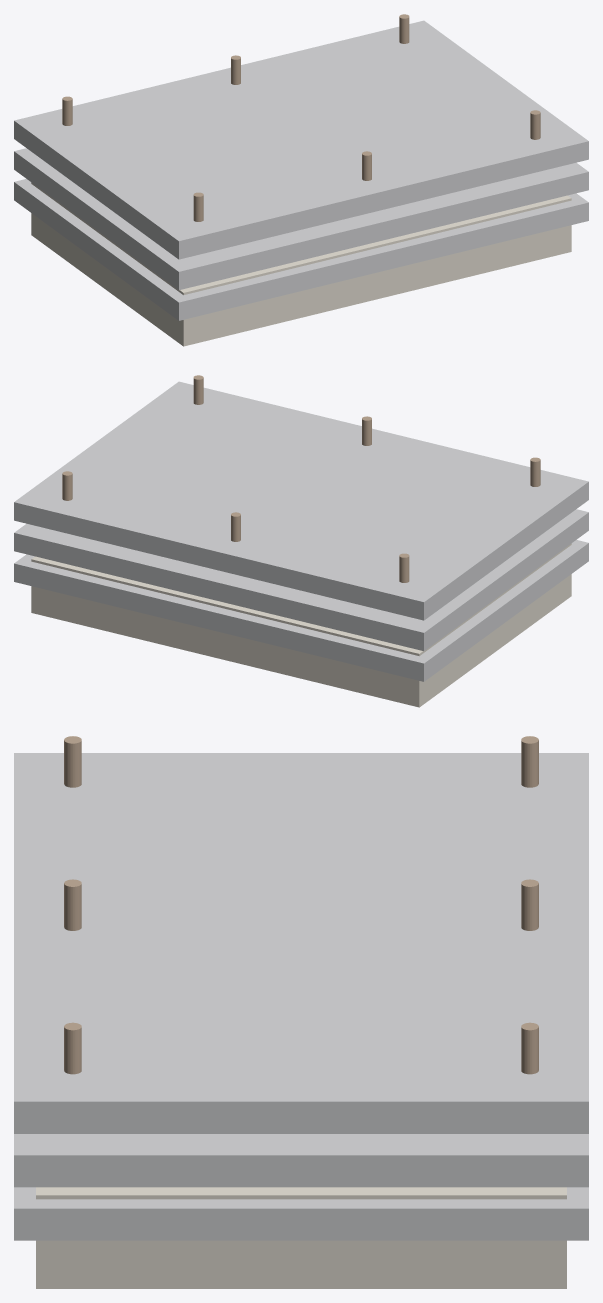
The model's file is MOD_FOUNDATION_RAISED_COASTAL_001_LOD_MAP.glb.
3 views of the same model, one above another, from view 1: azimuth 30°, elevation 25°; view 2: azimuth 150°, elevation 25°; view 3: azimuth 270°, elevation 25° (orthographic). The views are drawn at different scales.
Parts seen in each view (by area): view 1: MOD_FOUNDATION_RAISED_COASTAL_001_COASTAL_STILT_FOUNDATION_M, MOD_FOUNDATION_RAISED_COASTAL_001_MEDIUM_RAISED_COASTAL_MAP_, MOD_FOUNDATION_RAISED_COASTAL_001_LOW_RAISED_COASTAL_MAP_SKI, MOD_FOUNDATION_RAISED_COASTAL_001_LOW_RAISED_COASTAL_MAP_PLA; view 2: MOD_FOUNDATION_RAISED_COASTAL_001_COASTAL_STILT_FOUNDATION_M, MOD_FOUNDATION_RAISED_COASTAL_001_MEDIUM_RAISED_COASTAL_MAP_, MOD_FOUNDATION_RAISED_COASTAL_001_LOW_RAISED_COASTAL_MAP_SKI, MOD_FOUNDATION_RAISED_COASTAL_001_LOW_RAISED_COASTAL_MAP_PLA; view 3: MOD_FOUNDATION_RAISED_COASTAL_001_COASTAL_STILT_FOUNDATION_M (×3), MOD_FOUNDATION_RAISED_COASTAL_001_LOW_RAISED_COASTAL_MAP_SKI, MOD_FOUNDATION_RAISED_COASTAL_001_MEDIUM_RAISED_COASTAL_MAP_, MOD_FOUNDATION_RAISED_COASTAL_001_LOW_RAISED_COASTAL_MAP_PLA, MOD_FOUNDATION_RAISED_COASTAL_001_COASTAL_STILT_FOUNDATION_. (×4).
Boxes of the visible parts, left/top/right/bottom form: MOD_FOUNDATION_RAISED_COASTAL_001_COASTAL_STILT_FOUNDATION_M: left=14, top=20, right=588, bottom=259; MOD_FOUNDATION_RAISED_COASTAL_001_MEDIUM_RAISED_COASTAL_MAP_: left=14, top=148, right=588, bottom=290; MOD_FOUNDATION_RAISED_COASTAL_001_LOW_RAISED_COASTAL_MAP_SKI: left=31, top=182, right=571, bottom=346; MOD_FOUNDATION_RAISED_COASTAL_001_LOW_RAISED_COASTAL_MAP_PLA: left=14, top=179, right=588, bottom=320; MOD_FOUNDATION_RAISED_COASTAL_001_COASTAL_STILT_FOUNDATION_M: left=14, top=381, right=588, bottom=620; MOD_FOUNDATION_RAISED_COASTAL_001_MEDIUM_RAISED_COASTAL_MAP_: left=14, top=509, right=588, bottom=651; MOD_FOUNDATION_RAISED_COASTAL_001_LOW_RAISED_COASTAL_MAP_SKI: left=31, top=543, right=571, bottom=707; MOD_FOUNDATION_RAISED_COASTAL_001_LOW_RAISED_COASTAL_MAP_PLA: left=14, top=540, right=588, bottom=681; MOD_FOUNDATION_RAISED_COASTAL_001_COASTAL_STILT_FOUNDATION_M (×3): left=14, top=736, right=588, bottom=1133; MOD_FOUNDATION_RAISED_COASTAL_001_LOW_RAISED_COASTAL_MAP_SKI: left=36, top=1187, right=566, bottom=1288; MOD_FOUNDATION_RAISED_COASTAL_001_MEDIUM_RAISED_COASTAL_MAP_: left=14, top=1134, right=588, bottom=1187; MOD_FOUNDATION_RAISED_COASTAL_001_LOW_RAISED_COASTAL_MAP_PLA: left=14, top=1187, right=588, bottom=1240; MOD_FOUNDATION_RAISED_COASTAL_001_COASTAL_STILT_FOUNDATION_. (×4): left=64, top=879, right=538, bottom=1074.
Bounding box in the file's own units: 5.6 × 1.8 × 3.9.
